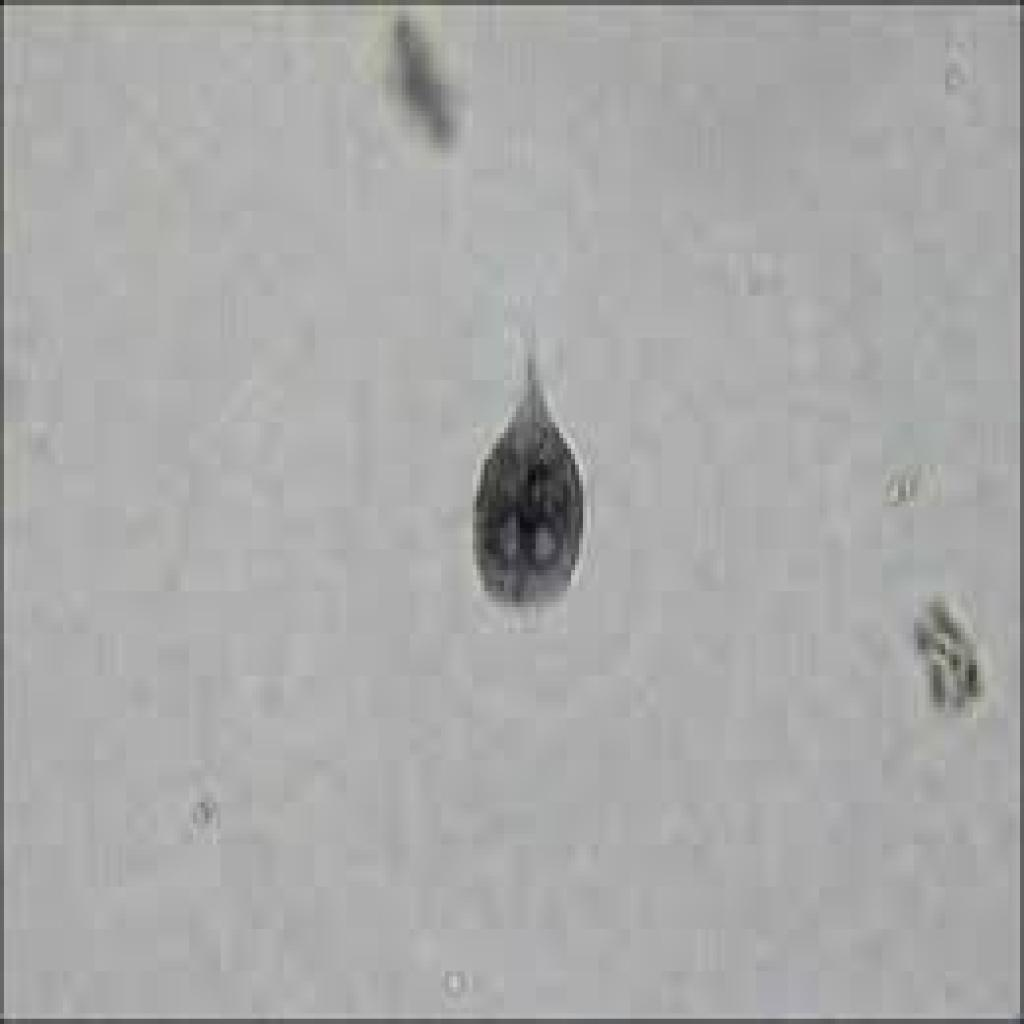Giardia: (472, 343, 586, 612)
